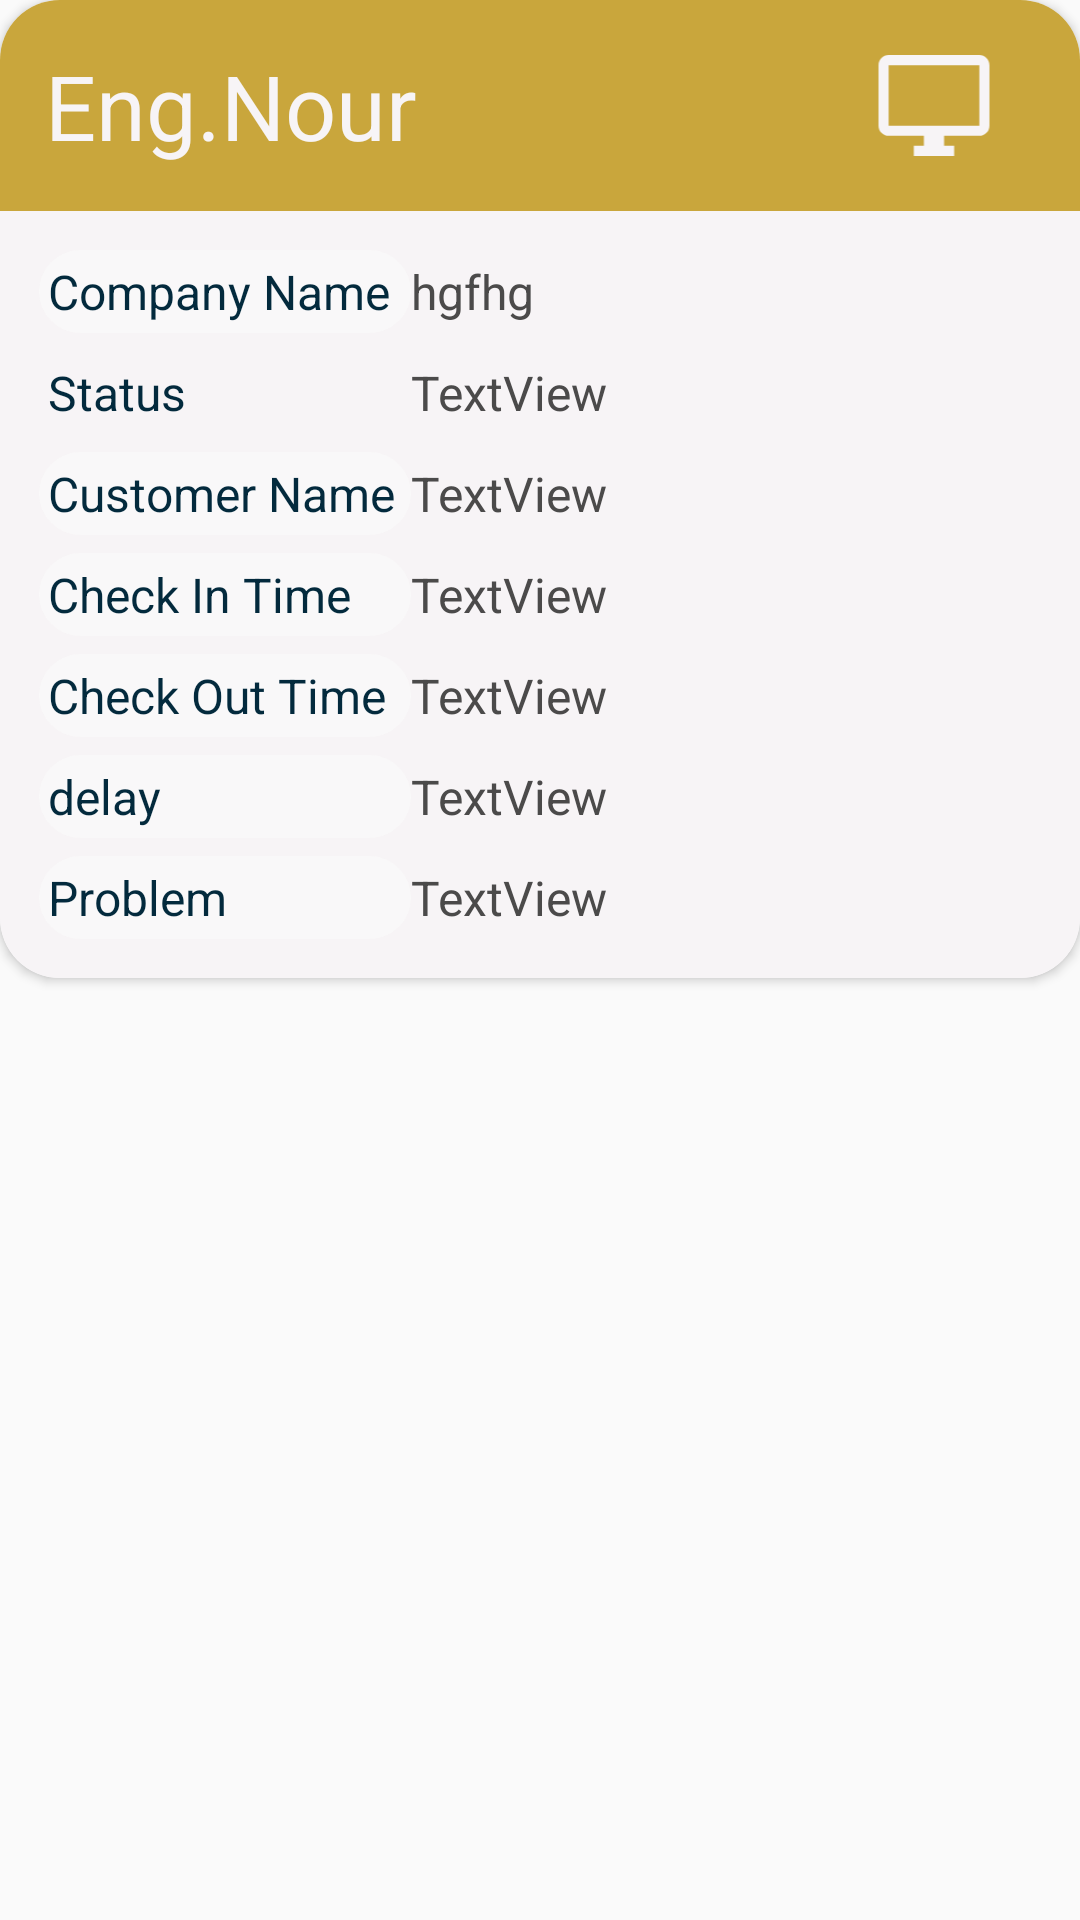

Icon bounding boxes for this 1080x1920 phone screenshot, format {"x1": x1, "y1": y1, "x2": x2, "y2": y2}:
desktop window: {"x1": 878, "y1": 55, "x2": 990, "y2": 156}
